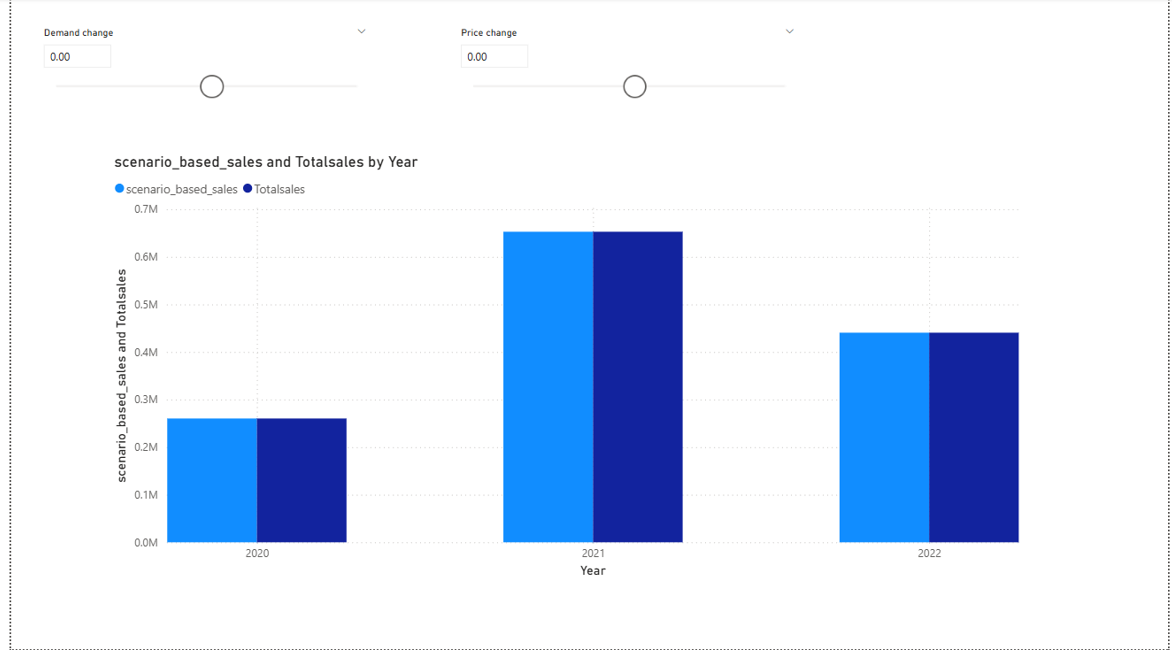

This screenshot's page, from the dashboard's own definition file:
{"tool":"powerbi","page":{"name":"Scenario-Based Analysis","canvas":[1280,720],"ordinal":4},"visuals":[{"type":"clusteredColumnChart","fields":{"Y":["Measures_tbl.scenario_based_sales","Measures_tbl.Totalsales"],"Category":["Dates_tbl.Date.Variation.Date Hierarchy.Year"]},"box":[108.8,171.2,1010.1,474.5],"z":0},{"type":"slicer","fields":{"Values":["Demand change.Demand change"]},"box":[23.2,26.9,381.5,129.6],"z":1000},{"type":"slicer","fields":{"Values":["Price change.Price change"]},"box":[484.2,26.9,393.8,129.6],"z":2000}]}

Visuals, with their boxes in screenshot pixels (x1, y1, x2, y2), scaled from the page's 1280x720 canvas onto the 1172x652 screenshot:
clusteredColumnChart - Measures_tbl.scenario_based_sales x Measures_tbl.Totalsales: select_region(100, 155, 1024, 585)
slicer - Demand change.Demand change: select_region(21, 24, 371, 142)
slicer - Price change.Price change: select_region(443, 24, 804, 142)
